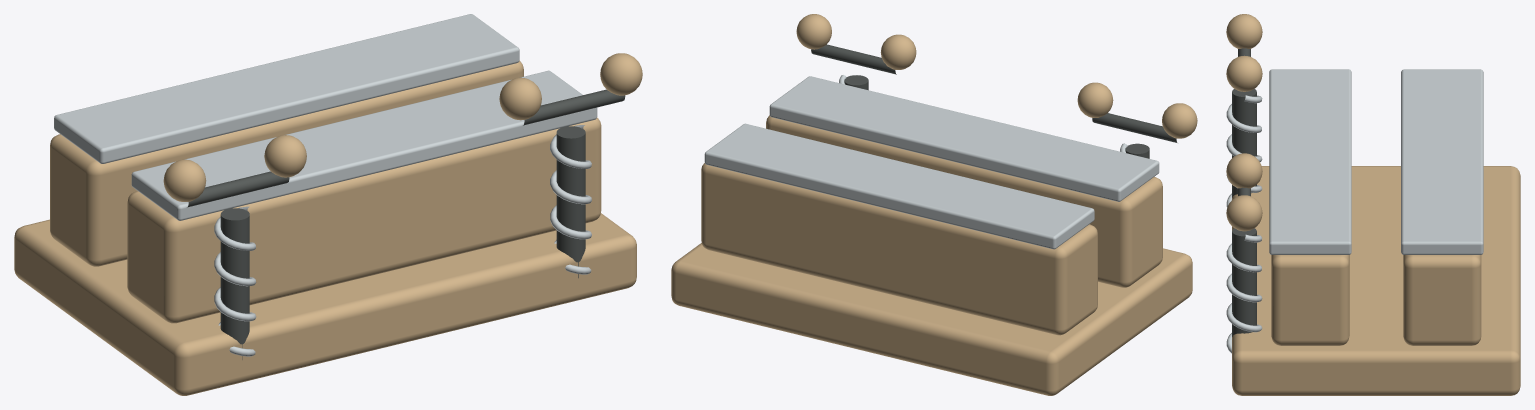
The model's file is bookbinding-and-paper-mill-backing-press-05acdc3b__30562.glb.
3 views of the same model, side by side, from view 1: azimuth 30°, elevation 25°; view 2: azimuth 150°, elevation 25°; view 3: azimuth 270°, elevation 25° (orthographic). The views are drawn at different scales.
Visible parts, largest first — view 1: backing-press; view 2: backing-press; view 3: backing-press.
Part boxes in pixels (x1,y1,x2,y2): backing-press: (14, 14, 642, 395); backing-press: (671, 14, 1197, 395); backing-press: (1226, 14, 1520, 395).
Bounding box in the file's own units: 0.564 × 0.264 × 0.357.
